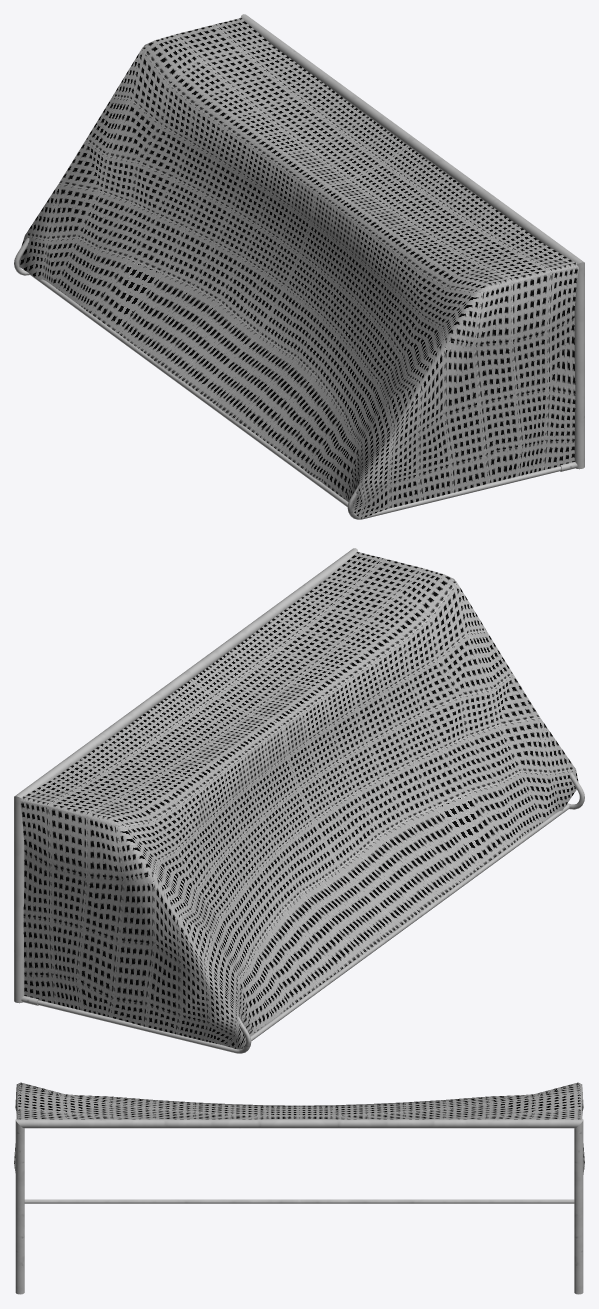
Rendered from SM_Soccer_Goal_906f4c.glb.
The picture shows the model from 3 angles, top to bottom: view 1: azimuth 30°, elevation 25°; view 2: azimuth 150°, elevation 25°; view 3: azimuth 270°, elevation 25°; orthographic projection. The views are drawn at different scales.
Size of the model in its own units: 2.99 by 2.5 by 7.48.
Materials: 1 (1 with a texture image).
